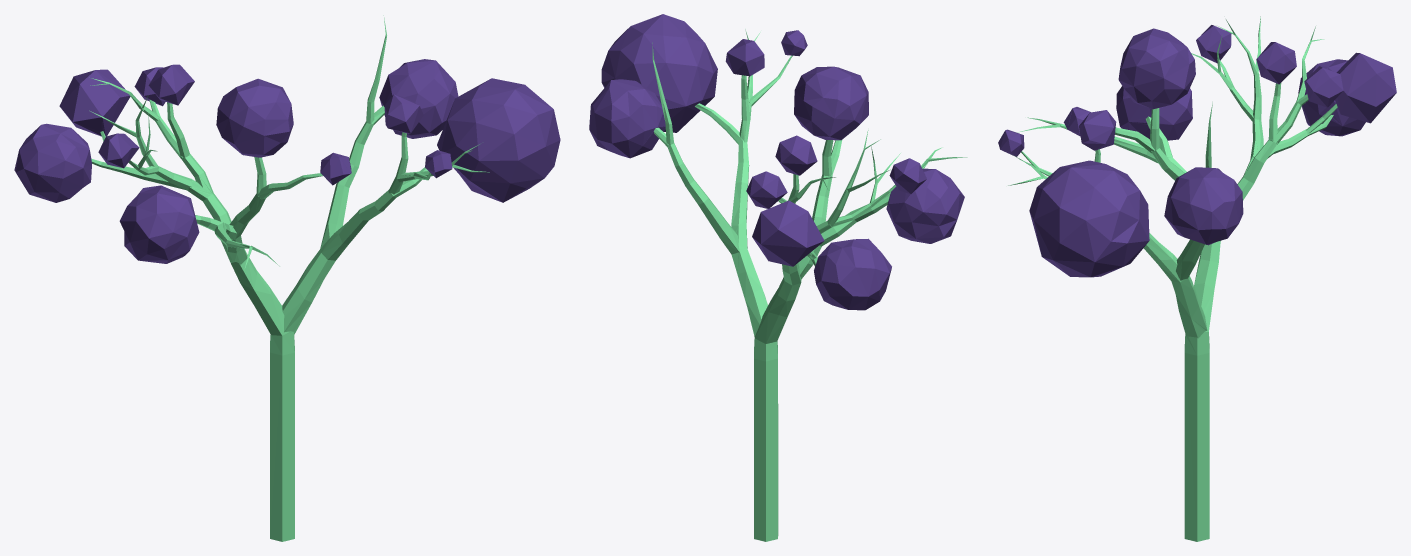
File: venus_tree01_mid.obj
The picture shows the model from 3 angles, left to right: view 1: azimuth 30°, elevation 25°; view 2: azimuth 150°, elevation 25°; view 3: azimuth 270°, elevation 25°; orthographic projection. The views are drawn at different scales.
Visible parts, largest first — view 1: Object.1; view 2: Object.1; view 3: Object.1.
Part boxes in pixels (bbox=[...]): Object.1: bbox=[14, 15, 560, 541]; Object.1: bbox=[589, 14, 967, 541]; Object.1: bbox=[998, 16, 1396, 541].
Bounding box in the file's own units: 46.22 × 52.78 × 39.02.
